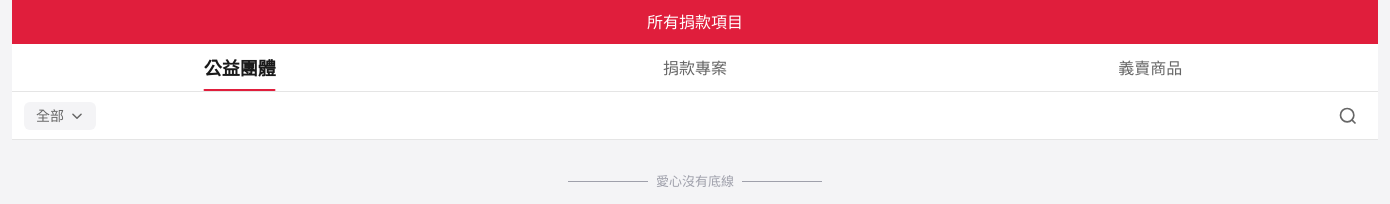
CharityListPage › 點搜尋 IconButton 開啟 SearchOverlay（AC 5）
The width and height of the screenshot is (1390, 204).
Click the button named "搜尋" at (1348, 116), box [1330,98,1366,134]
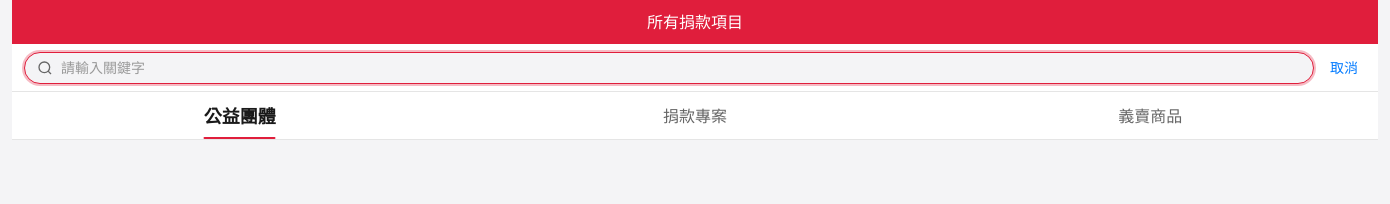
Expected: the element showing "取消" is shown, [12,44,1378,92]
